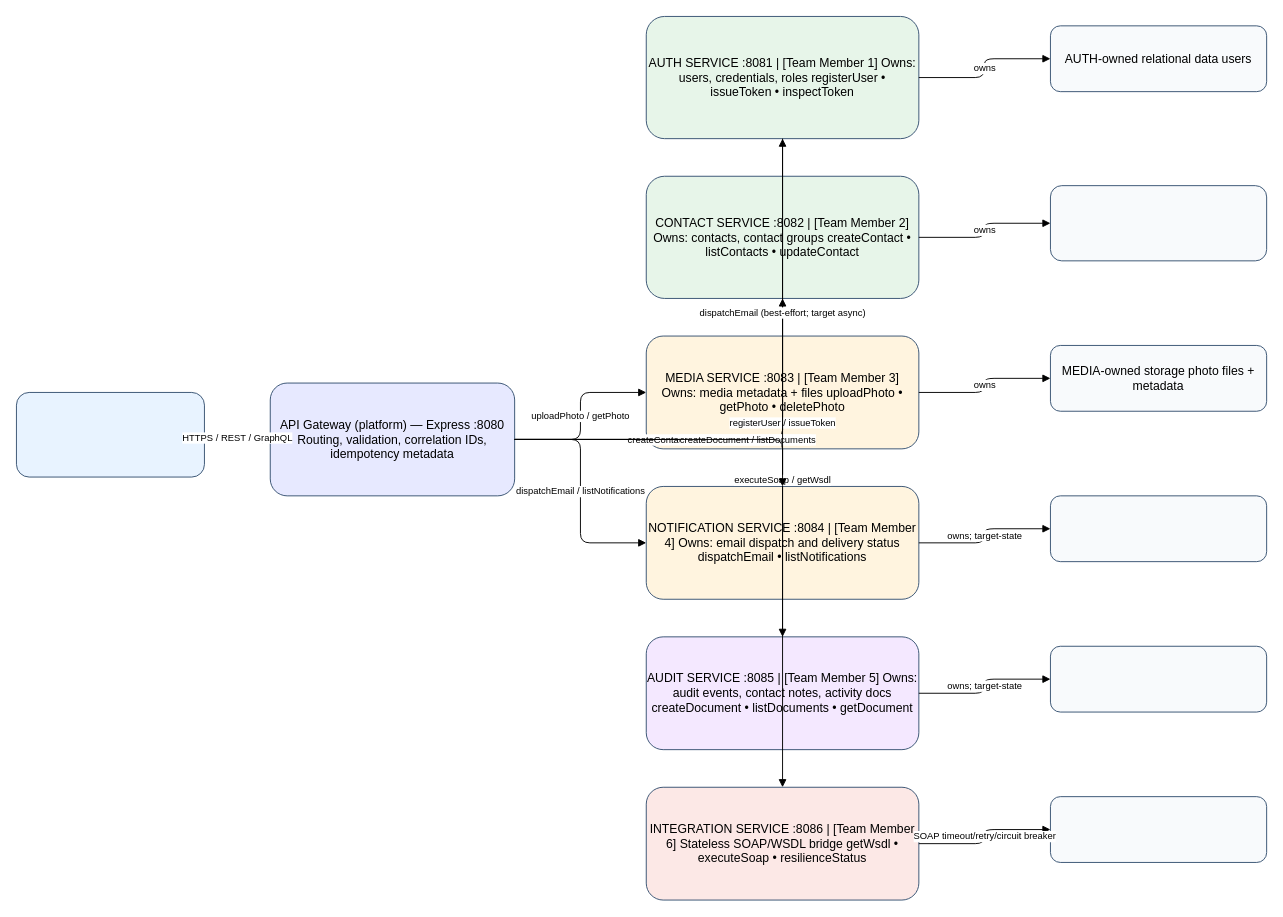
Image size: 1283x917. Some labels were removed from this diagram. The shapes that lost their labels are listed below. From the top down, each one's centre as x and y in pixels, then its label:
(x=1158, y=223): CONTACT-owned relational data contacts • contact_groups
(x=110, y=434): React Frontend User interface
(x=1158, y=528): NOTIFICATION-owned store delivery metadata (target-state)
(x=1158, y=678): AUDIT-owned MongoDB audit-logs • contact-notes • activity-stream
(x=1158, y=829): External SOAP endpoint
